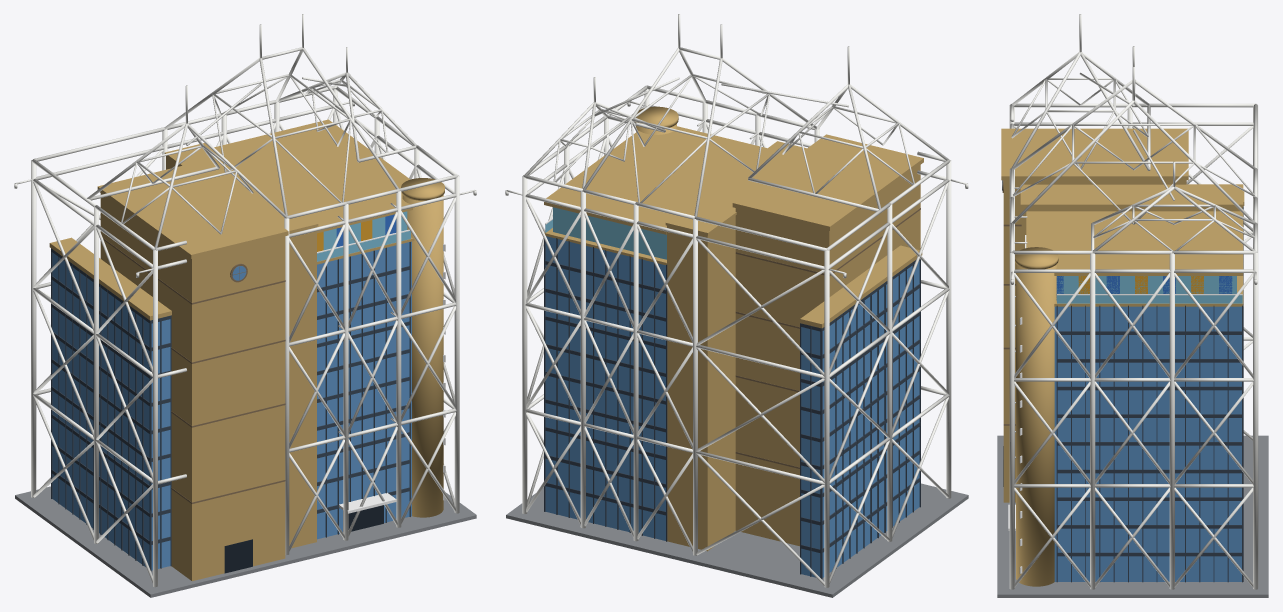
File: nirsal.glb
3 renders of one model, left to right at view 1: azimuth 30°, elevation 25°; view 2: azimuth 150°, elevation 25°; view 3: azimuth 270°, elevation 25°, orthographic.
Visible parts, largest first — view 1: nirsal_Building, nirsal_Frame; view 2: nirsal_Building, nirsal_Frame; view 3: nirsal_Building, nirsal_Frame.
Part boxes in pixels (x1,y1,x2,y2): nirsal_Building: (15,119,476,597); nirsal_Frame: (14,14,476,587); nirsal_Building: (506,106,968,597); nirsal_Frame: (505,14,968,587); nirsal_Building: (997,128,1268,597); nirsal_Frame: (1009,14,1258,589).
Bounding box in the file's own units: 15.73 × 21.19 × 10.88.
